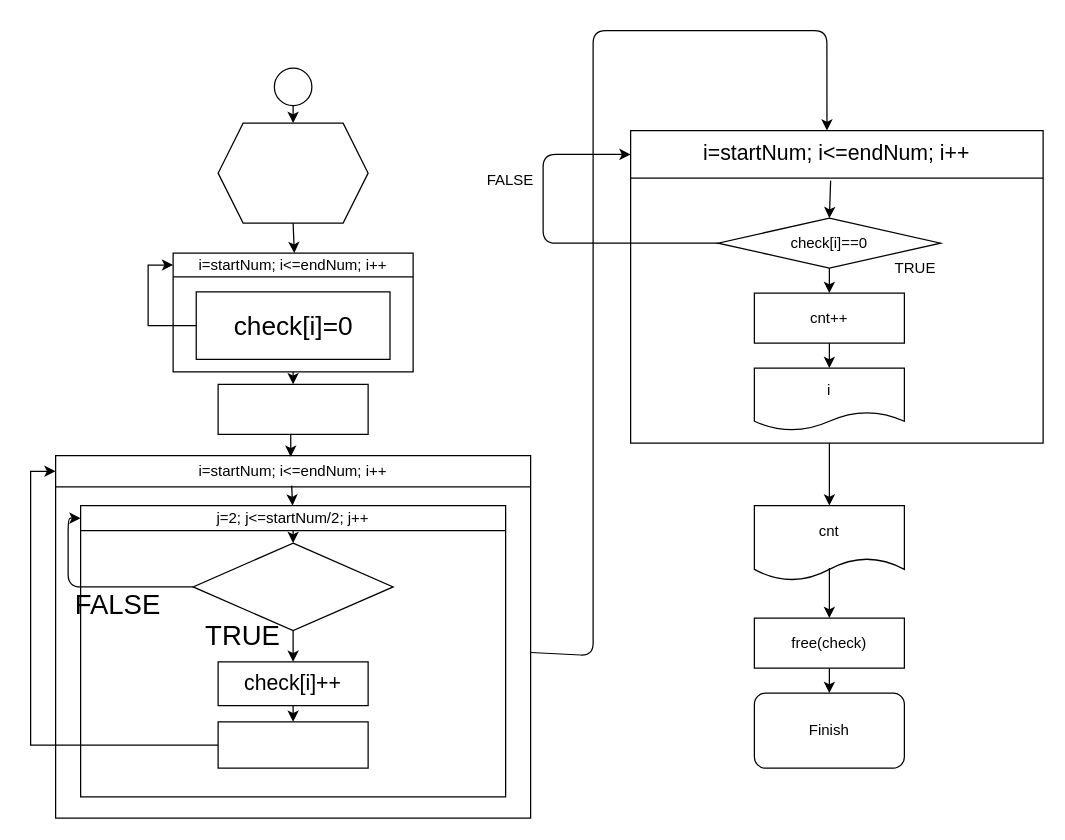
This 1065x840 diagram has some shape labels left out. Each missing label, with the box of its shape:
break;: (217, 721, 368, 768)
check[1] = 1: (217, 383, 368, 434)
i%j==0: (192, 542, 393, 631)
prepare find: (217, 122, 368, 223)
